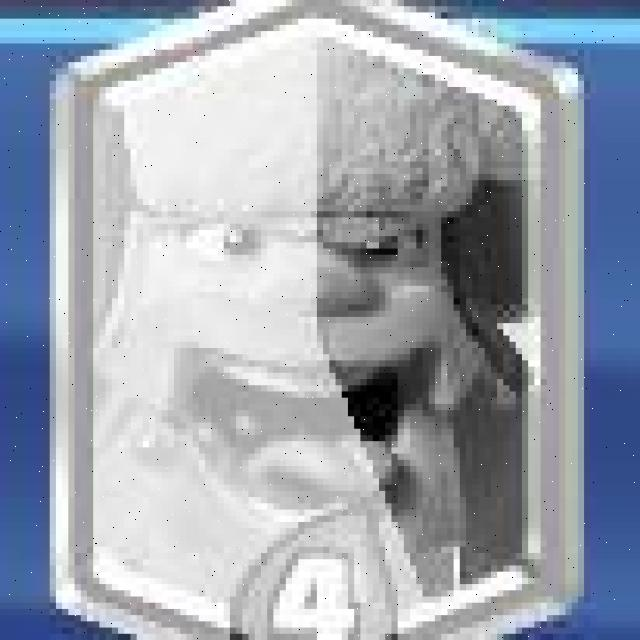Lumberjack: (50, 1, 587, 640)
